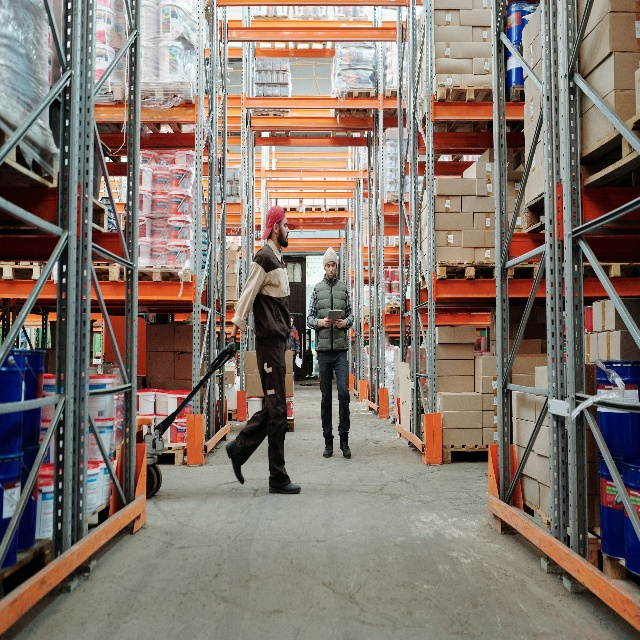Guantes: (227, 335, 237, 356)
Sin_guantes: (333, 317, 343, 330), (323, 316, 333, 328)
